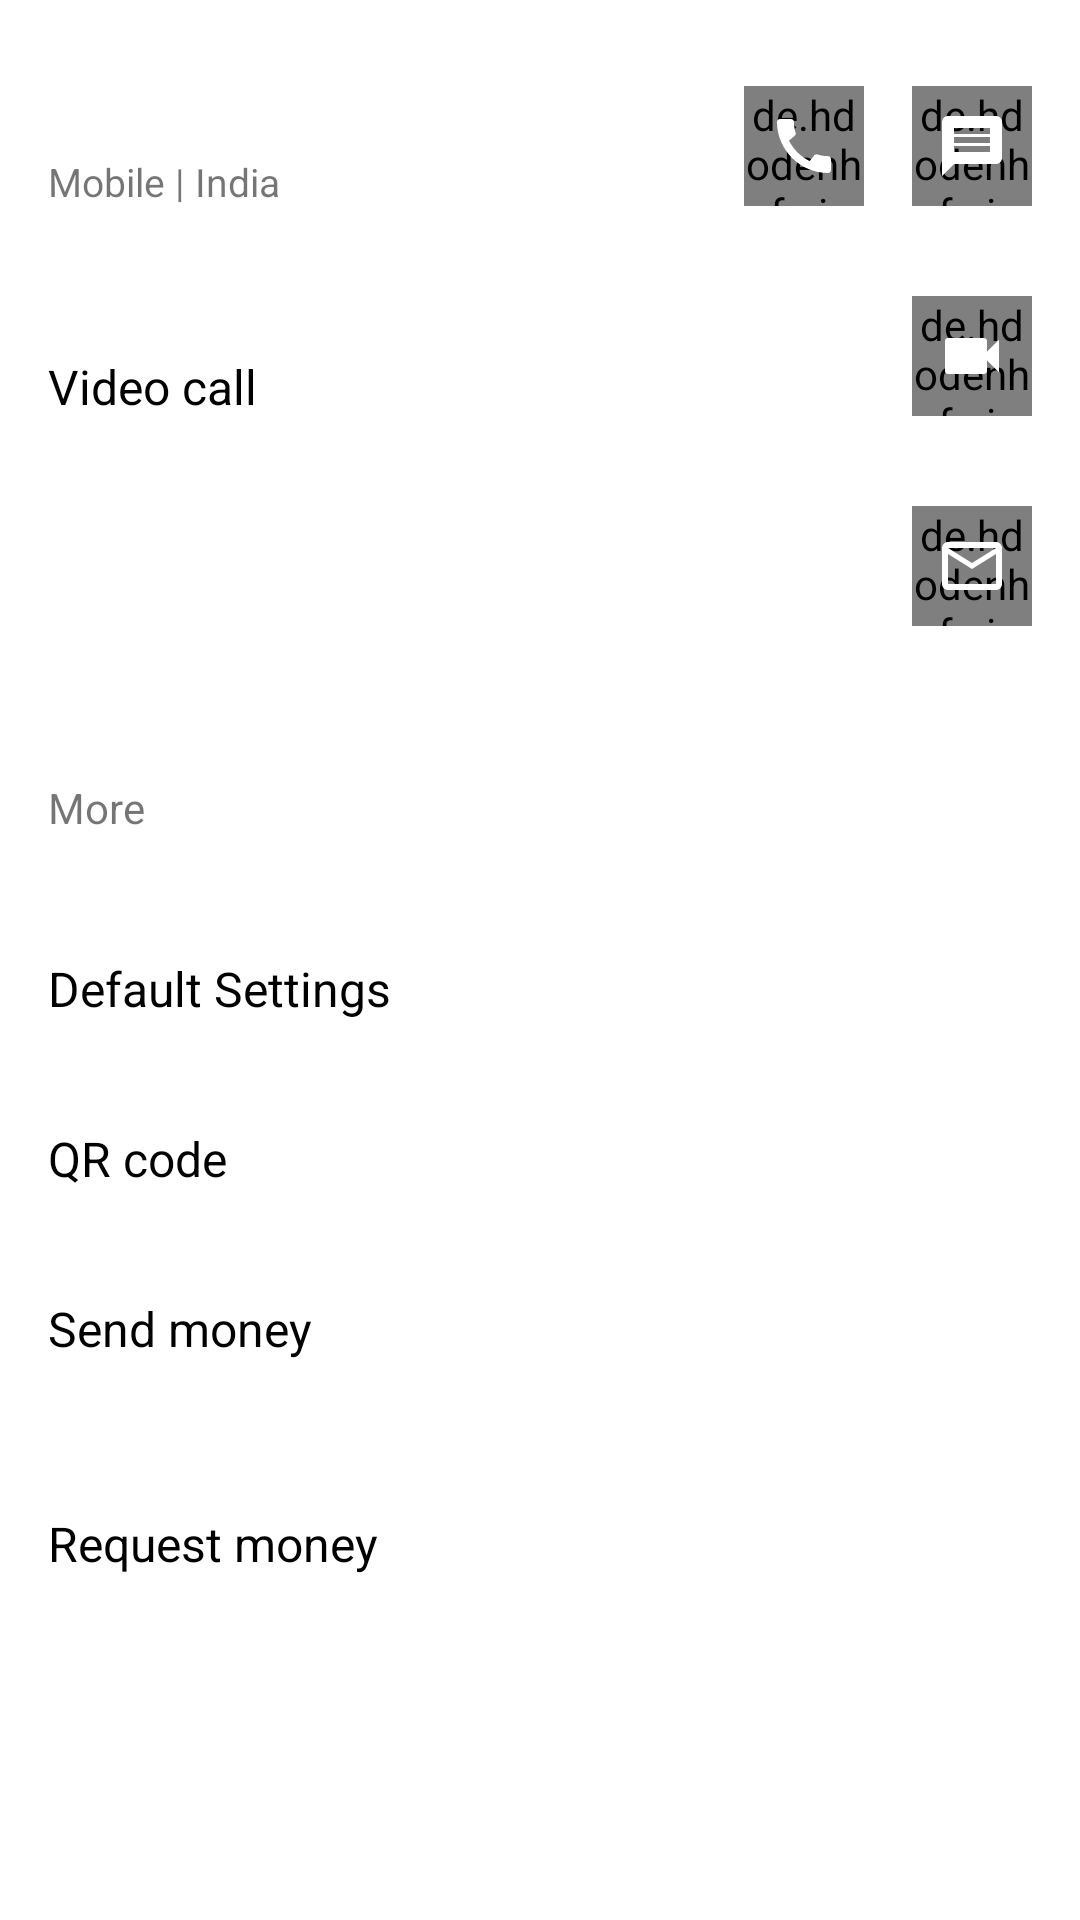

Screen size 1080*1920. Icon name, then its box in pixels as (x1, y1, x2, y2):
calling: (772, 110, 837, 181)
mail boxing: (936, 530, 1008, 601)
messaging: (936, 110, 1008, 181)
video calling: (936, 320, 1008, 391)
